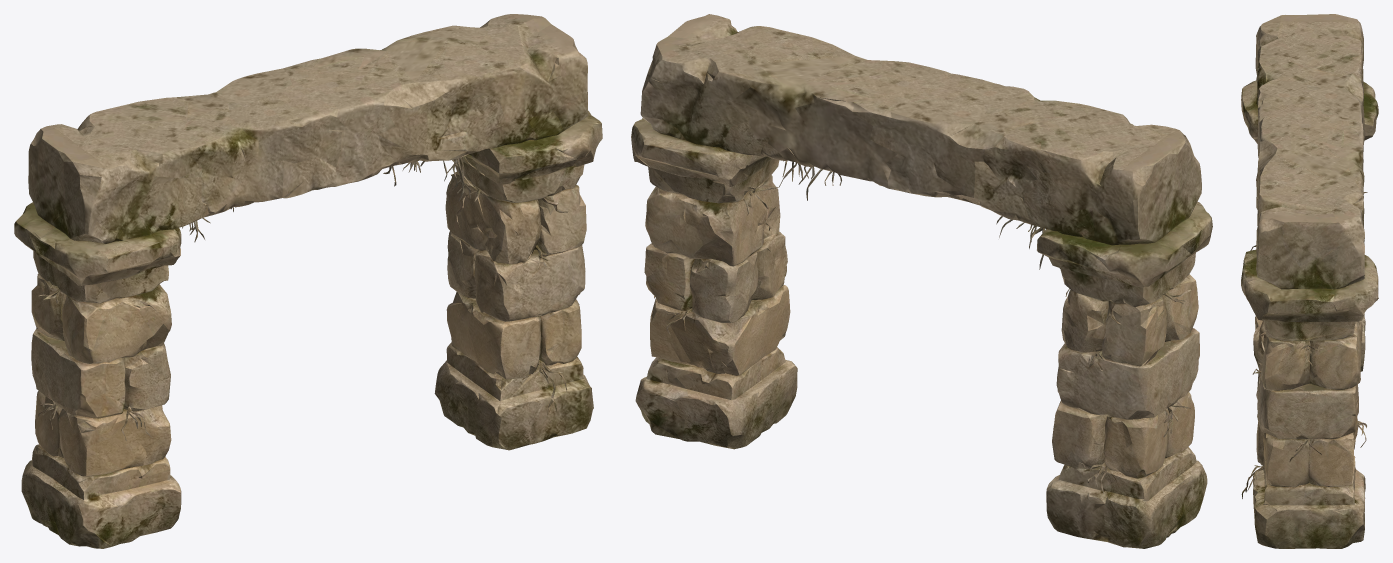
File: tas_kapi.glb
The picture shows the model from 3 angles, left to right: view 1: azimuth 30°, elevation 25°; view 2: azimuth 150°, elevation 25°; view 3: azimuth 270°, elevation 25°; orthographic projection. The views are drawn at different scales.
Visible parts, largest first — view 1: Mesh_0; view 2: Mesh_0; view 3: Mesh_0.
Part boxes in pixels (x1,y1,x2,y2): Mesh_0: (14, 14, 602, 548); Mesh_0: (631, 14, 1212, 548); Mesh_0: (1241, 14, 1378, 548).
Bounding box in the file's own units: 1.9 × 1.27 × 0.4884.
Materials: 1 (1 with a texture image).
